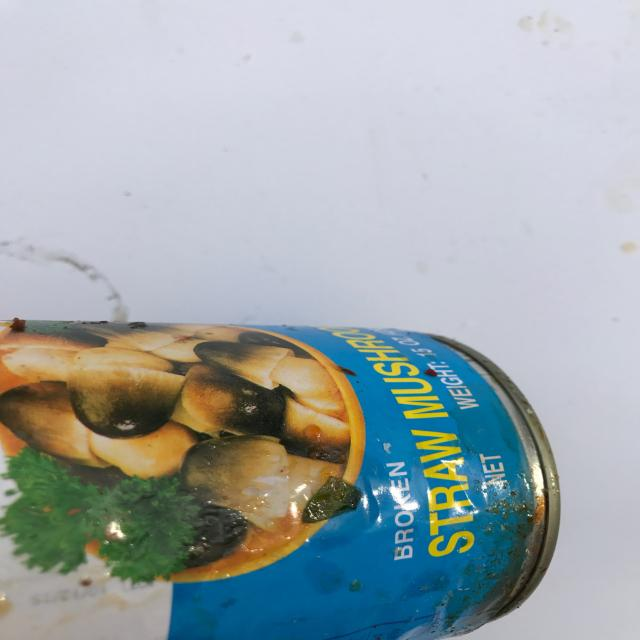Metal: (3, 298, 595, 640)
